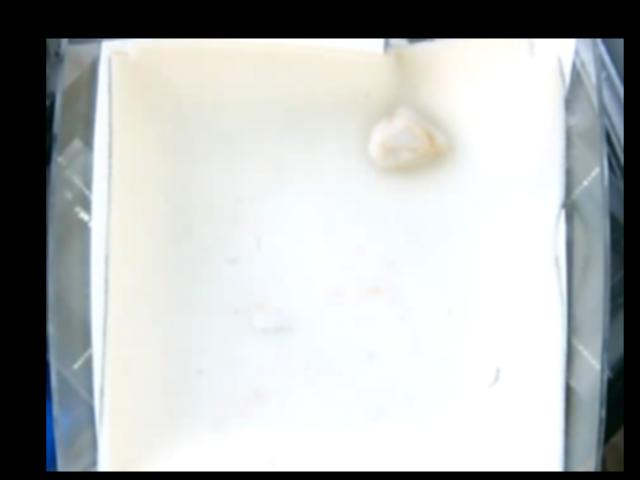Pebble: (366, 102, 449, 172)
